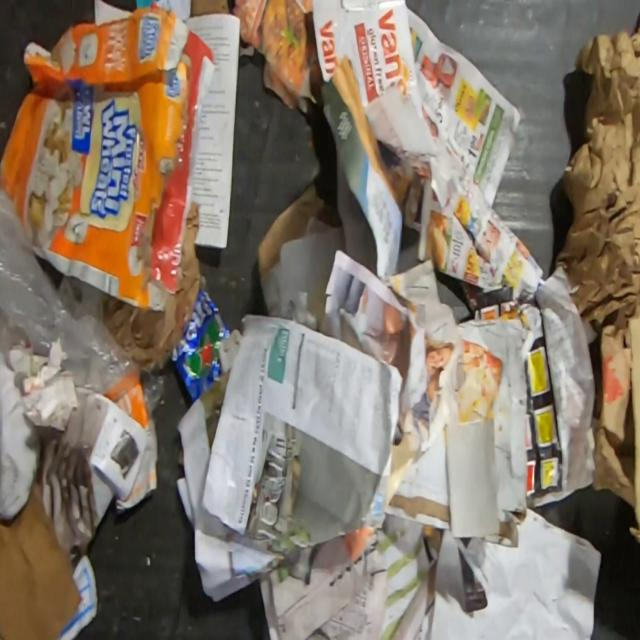cardboard: (0, 4, 215, 311), (0, 468, 82, 640), (591, 324, 634, 512), (257, 185, 339, 279), (627, 307, 640, 541)
metal: (171, 289, 232, 401)
soft_plastic: (0, 192, 167, 415)
